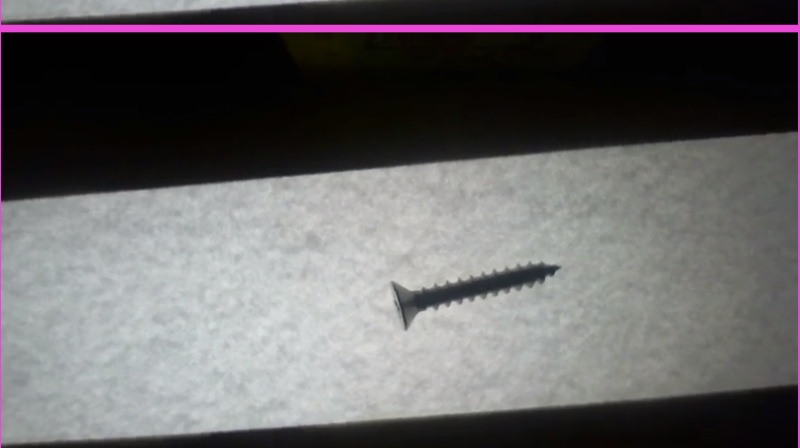S001: (388, 252, 567, 332)
